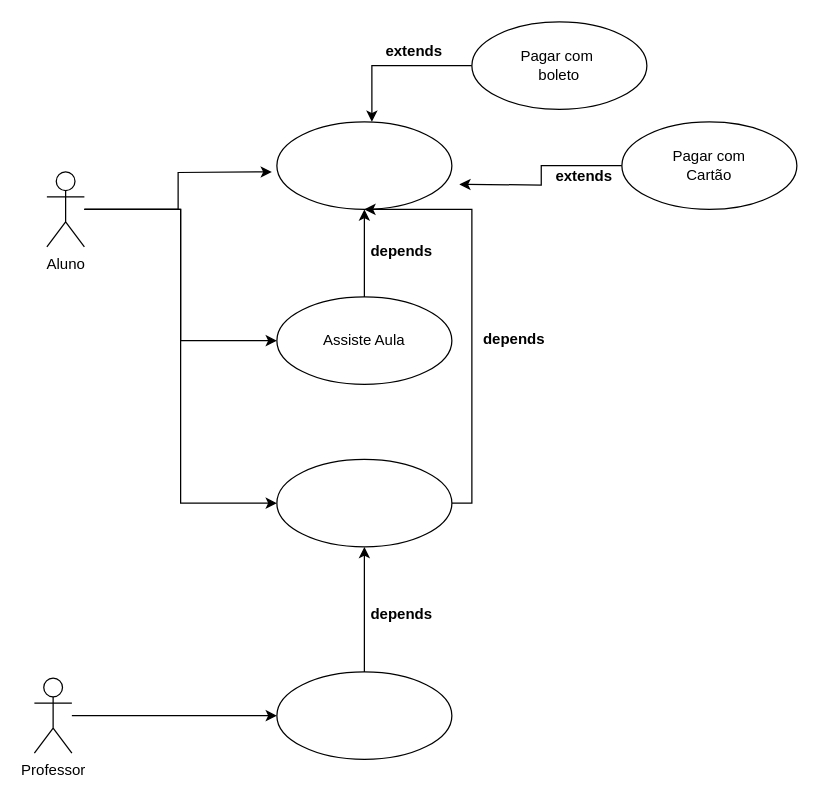
This 819x801 diagram has some shape labels left out. Here are the shapes that lost their labels. From the top down, the centre of each, then its label:
pixel 364 165: Compra Curso
pixel 364 502: Resolve exercícios
pixel 364 715: Corrige exercícios
